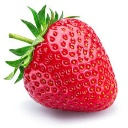strawberry: (6, 12, 120, 111)
